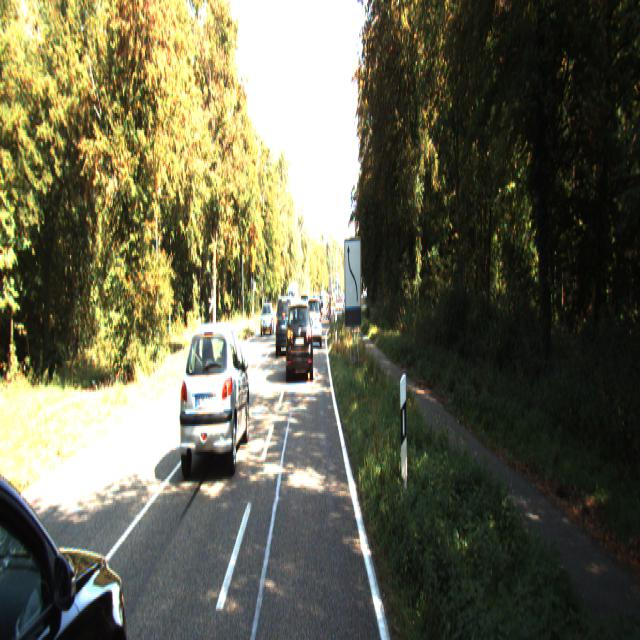Car: (178, 316, 250, 477), (286, 296, 313, 378), (275, 292, 296, 352), (307, 294, 322, 343), (260, 299, 274, 331)
